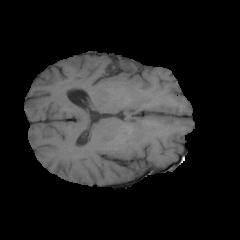glioma: (70, 56, 151, 117)
